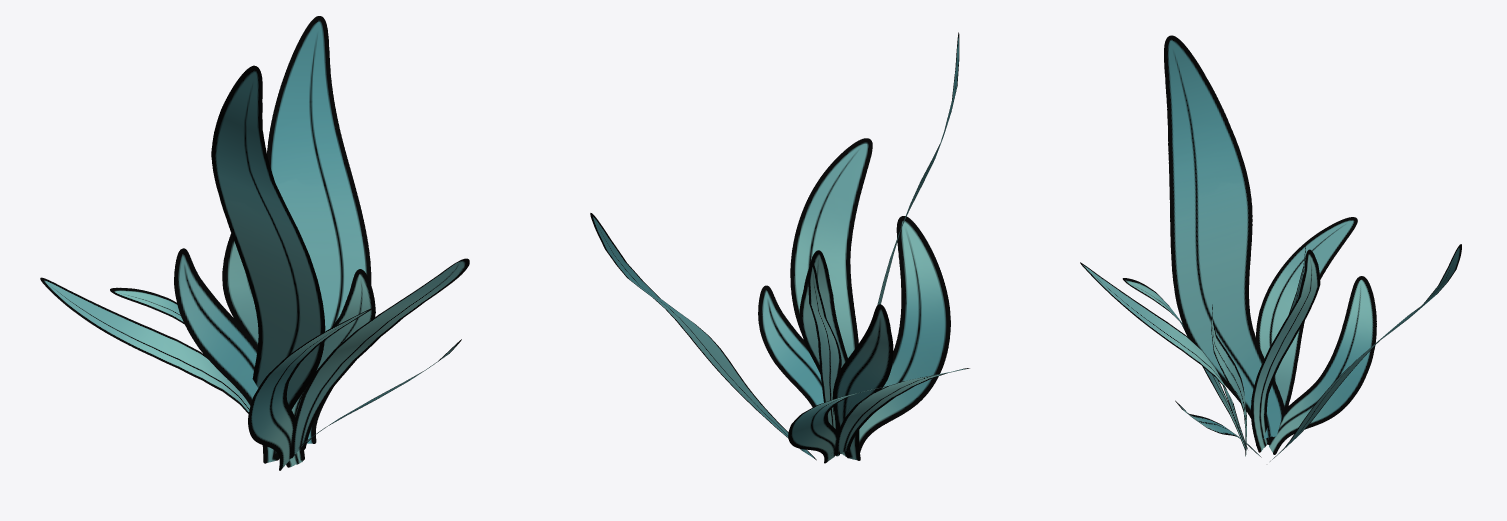
Rendered from AlgaeBush.fbx.
3 renders of one model, left to right at view 1: azimuth 30°, elevation 25°; view 2: azimuth 150°, elevation 25°; view 3: azimuth 270°, elevation 25°, orthographic. The views are drawn at different scales.
Parts seen in each view (by area): view 1: Plane; view 2: Plane; view 3: Plane.
Boxes of the visible parts, x1=… form: Plane: x1=40, y1=16, x2=469, y2=470; Plane: x1=590, y1=32, x2=969, y2=463; Plane: x1=1080, y1=35, x2=1461, y2=461.
Size of the model in its own units: 482 by 524 by 497.
